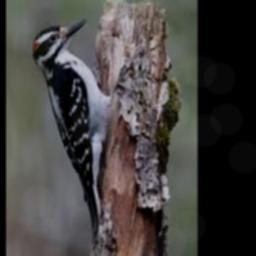Woodpecker: (33, 18, 113, 240)
